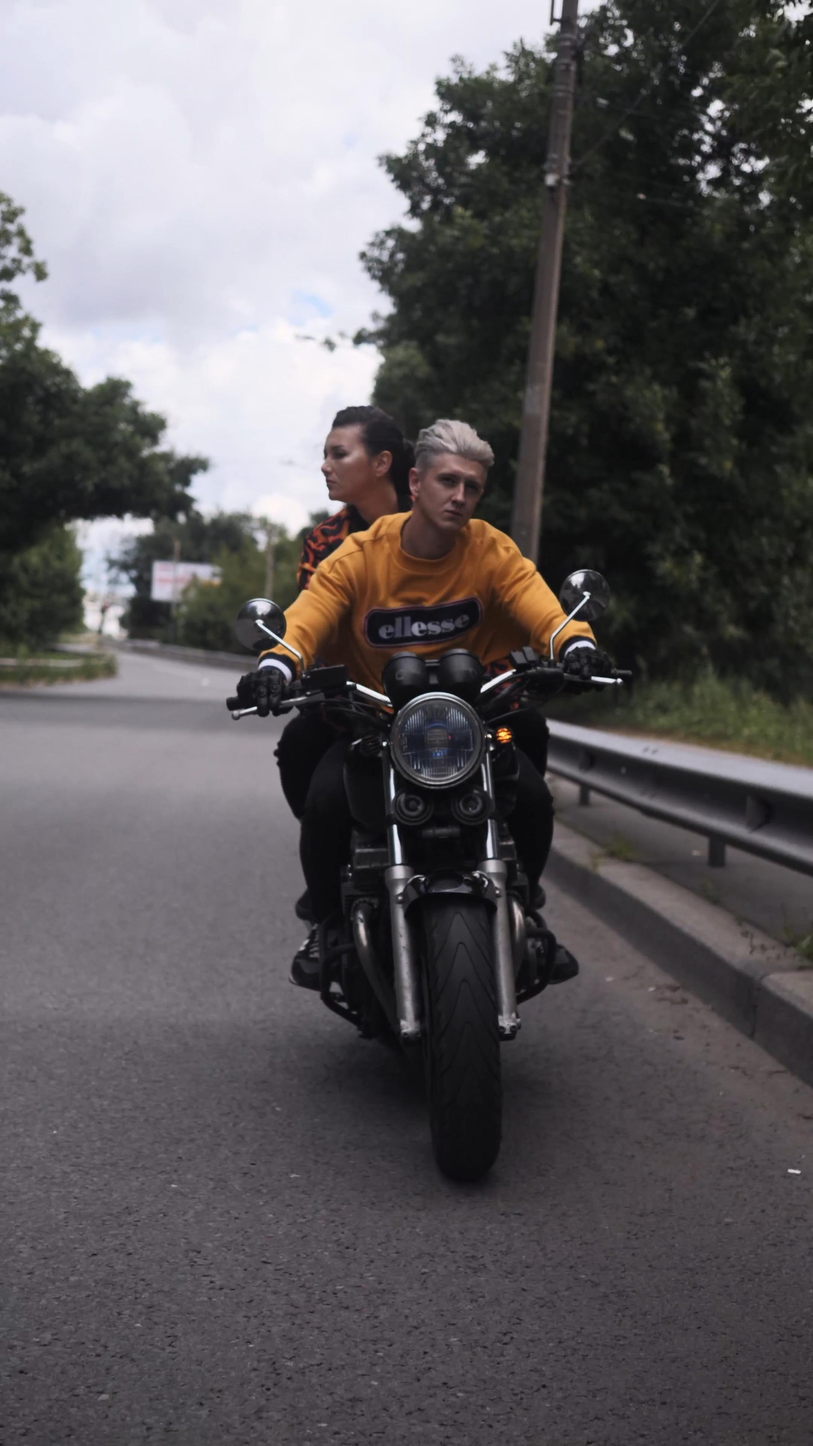driver: (220, 403, 638, 1182)
no-helmet: (408, 419, 495, 533), (320, 404, 415, 503)
